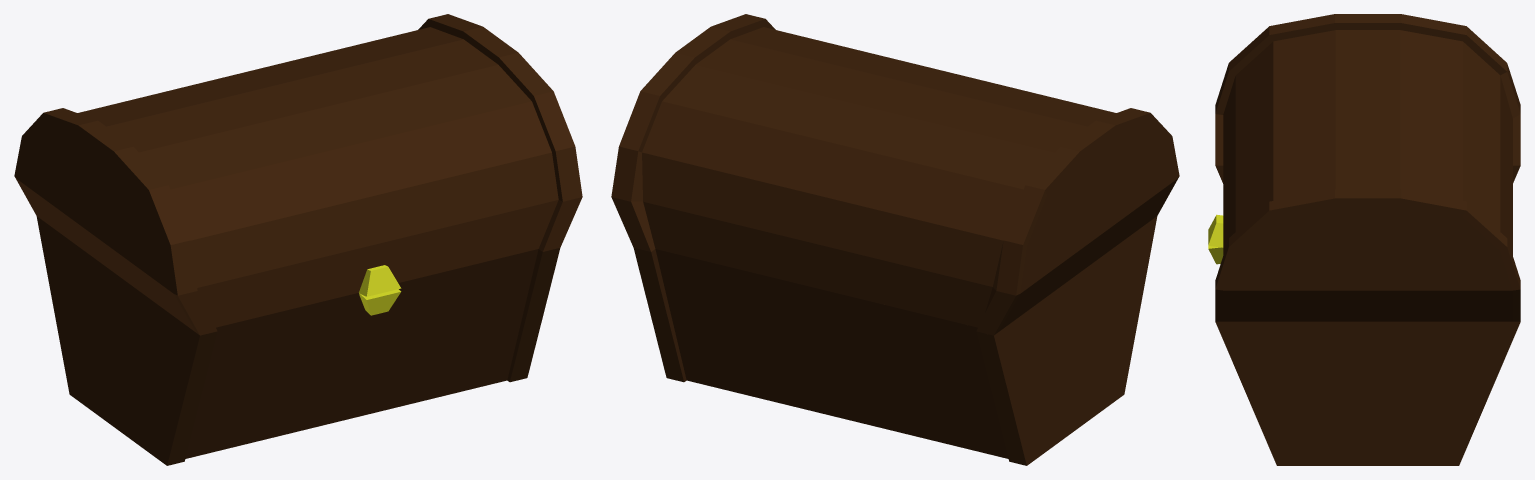
Rendered from cofre.FBX.
3 renders of one model, left to right at view 1: azimuth 30°, elevation 25°; view 2: azimuth 150°, elevation 25°; view 3: azimuth 270°, elevation 25°, orthographic. The views are drawn at different scales.
Visible parts, largest first — view 1: Chest, Chest_2_7; view 2: Chest, Chest_2_7; view 3: Chest, Chest_2_7.
Boxes of the visible parts, left/top/right/bottom form: Chest: left=14, top=14, right=582, bottom=335; Chest_2_7: left=36, top=216, right=560, bottom=465; Chest: left=611, top=14, right=1179, bottom=335; Chest_2_7: left=633, top=216, right=1157, bottom=465; Chest: left=1208, top=14, right=1520, bottom=321; Chest_2_7: left=1208, top=165, right=1520, bottom=465.
Bounding box in the file's own units: 46.32 × 32.51 × 33.17.
